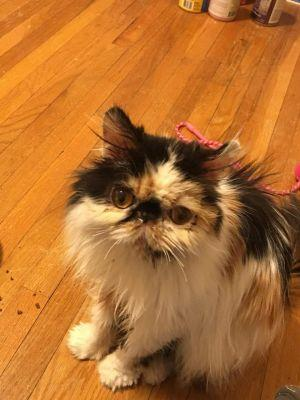persian: (55, 94, 243, 283)
